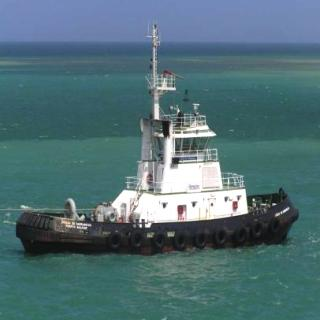Tug Boat: (14, 80, 306, 250)
